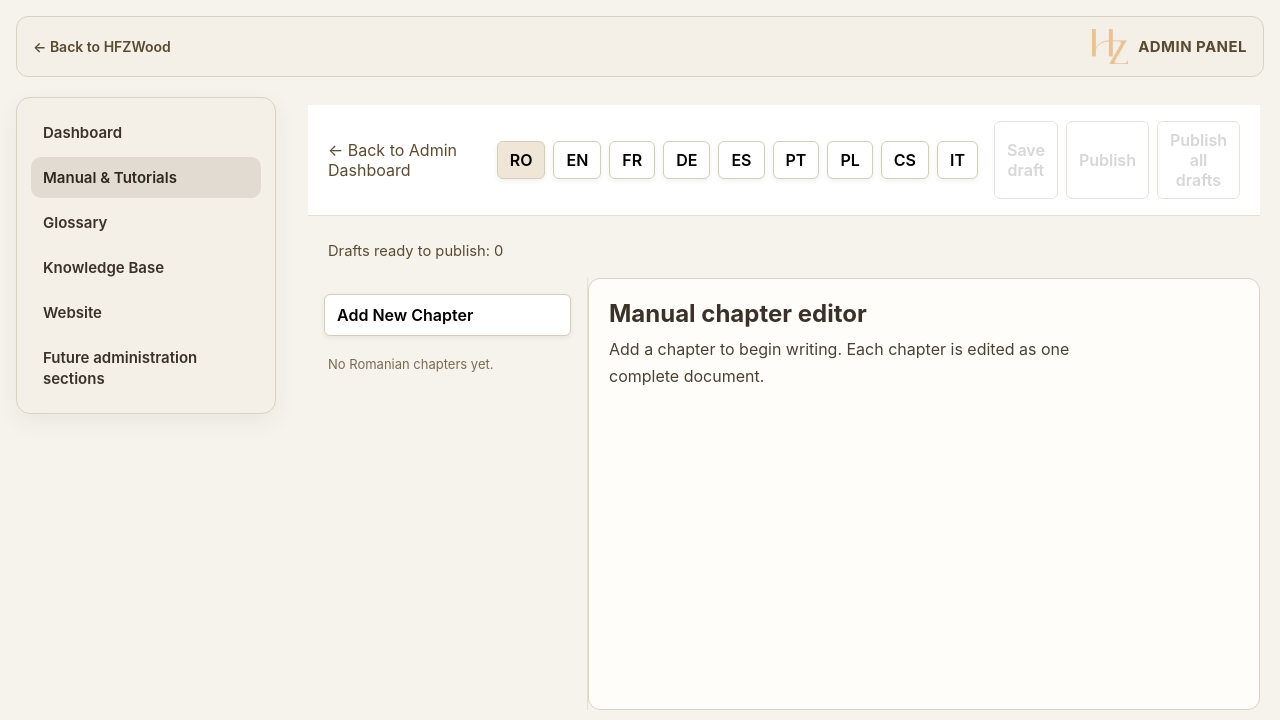
Manual management workspace (Task 59B) › loads chapters from the backend and opens a created chapter
Click the button "Add New Chapter" at (448, 315), box [324, 294, 571, 336]
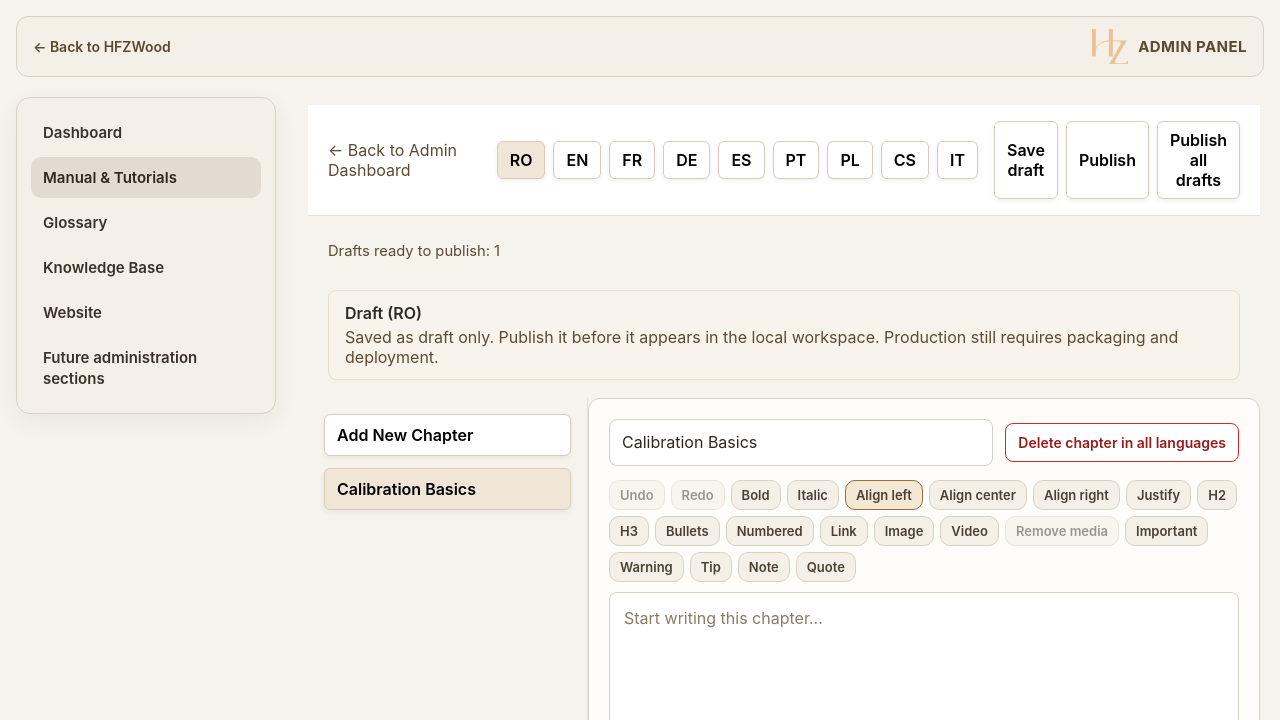
Now the button "Calibration Basics" is shown, box [324, 468, 571, 510]
Now the field named "Chapter title" holds "Calibration Basics", box [609, 419, 993, 466]
